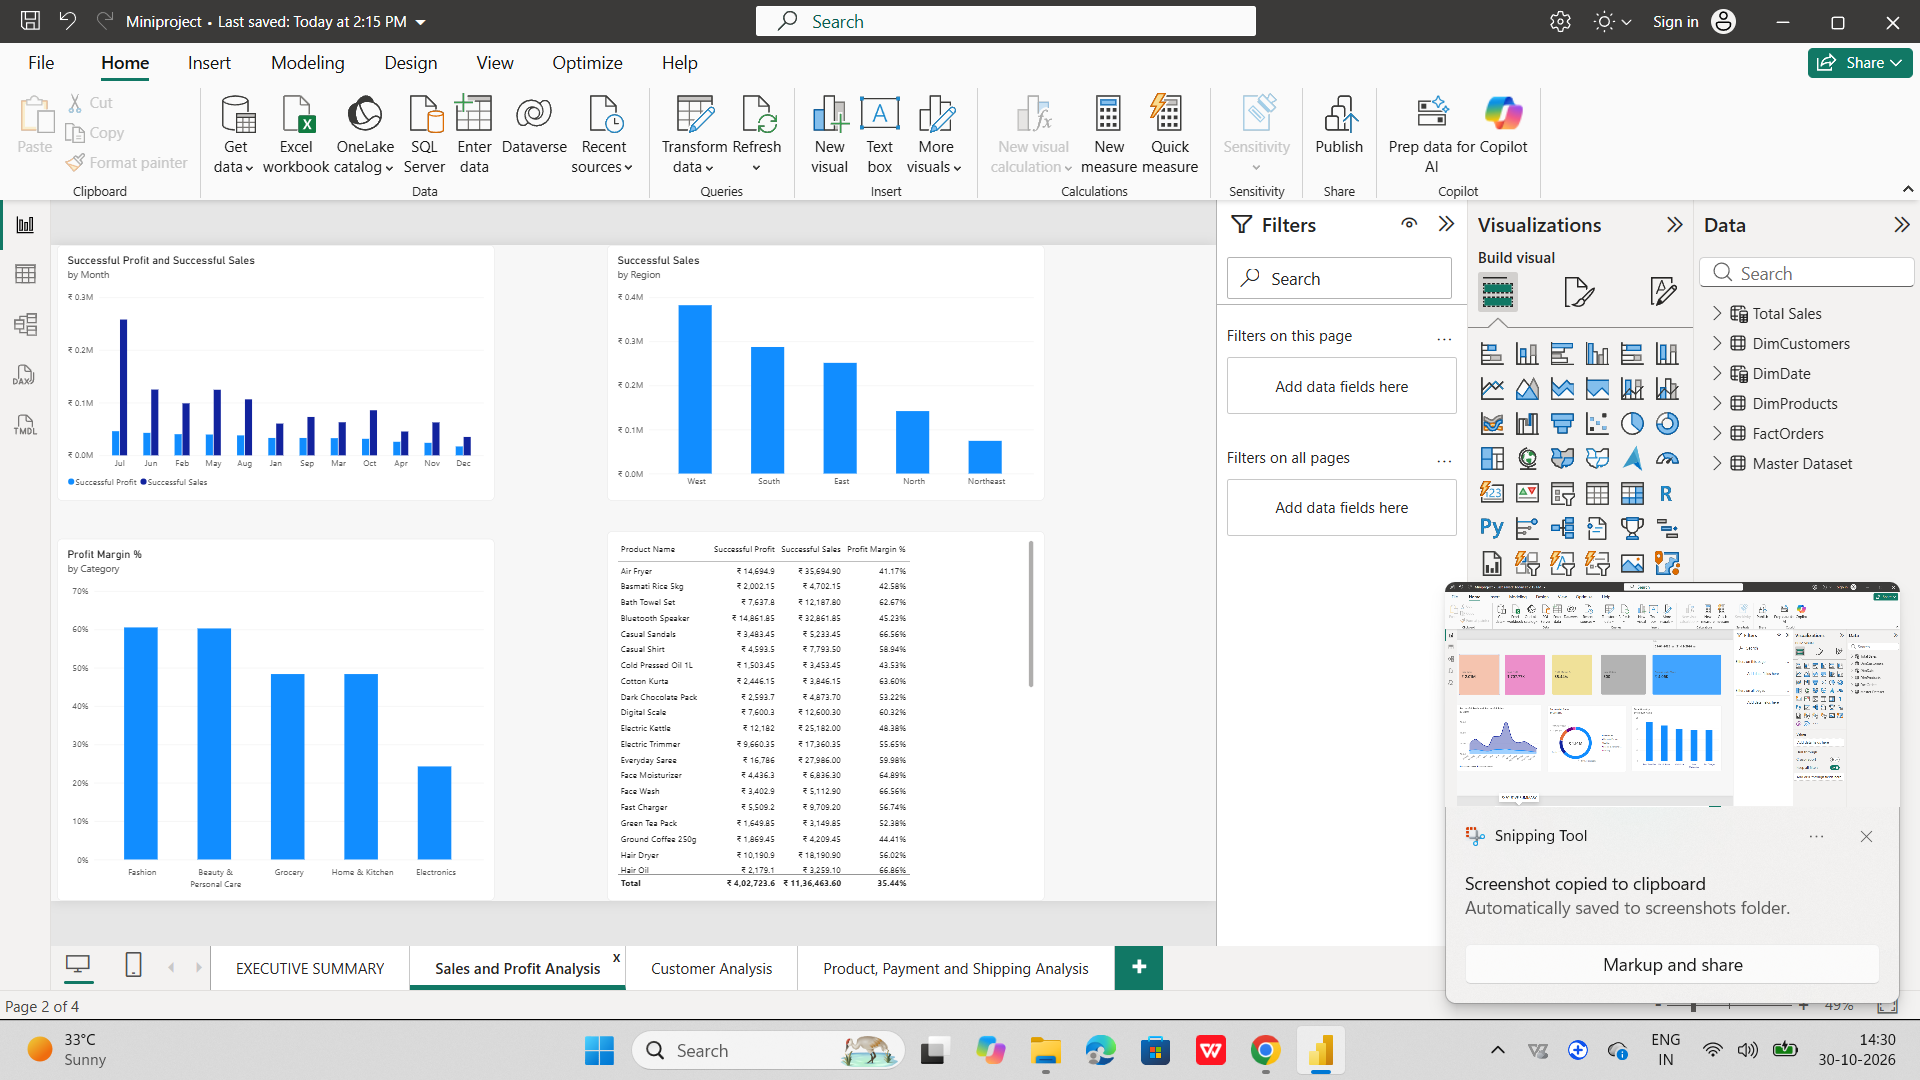

The page's visual inventory and layout, read from the dashboard file:
{"tool":"powerbi","page":{"name":"Sales and Profit Analysis","canvas":[1920,1080],"ordinal":1},"visuals":[{"type":"clusteredColumnChart","fields":{"Category":["DimDate.Month"],"Y":["Table.Successful Profit","Table.Successful Sales"]},"box":[10.3,0,720.4,422],"z":0},{"type":"clusteredColumnChart","fields":{"Category":["DimCustomers.Region"],"Y":["Table.Successful Sales"]},"box":[916,0,720.4,422],"z":1000},{"type":"clusteredColumnChart","fields":{"Category":["DimProducts.Category"],"Y":["Table.Profit Margin %"]},"box":[10.3,483.7,720.4,596.9],"z":2000},{"type":"tableEx","fields":{"Values":["DimProducts.Product Name","Table.Successful Profit","Table.Successful Sales","Table.Profit Margin %"]},"box":[916,471.4,720.4,609.3],"z":3000}]}

Visuals, with their boxes on the page's 1920x1080 design canvas (x1, y1, x2, y2). These are canvas units, not pixel positions in the 1920x1080 screenshot, which may show the page scaled, cropped or inside an application window:
clusteredColumnChart - DimDate.Month x Table.Successful Profit: locate(10, 0, 731, 422)
clusteredColumnChart - DimCustomers.Region x Table.Successful Sales: locate(916, 0, 1636, 422)
clusteredColumnChart - DimProducts.Category x Table.Profit Margin %: locate(10, 484, 731, 1081)
tableEx - DimProducts.Product Name x Table.Successful Profit: locate(916, 471, 1636, 1081)
